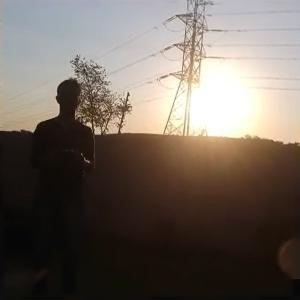follow: (25, 72, 102, 298)
